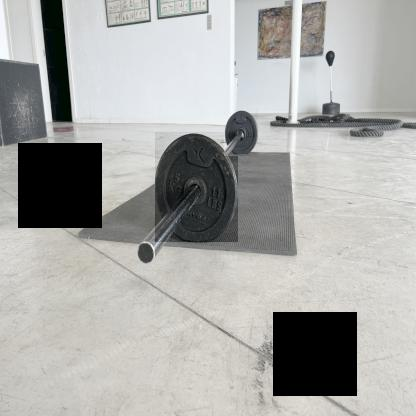barbell: (156, 134, 239, 244), (226, 111, 260, 157)
